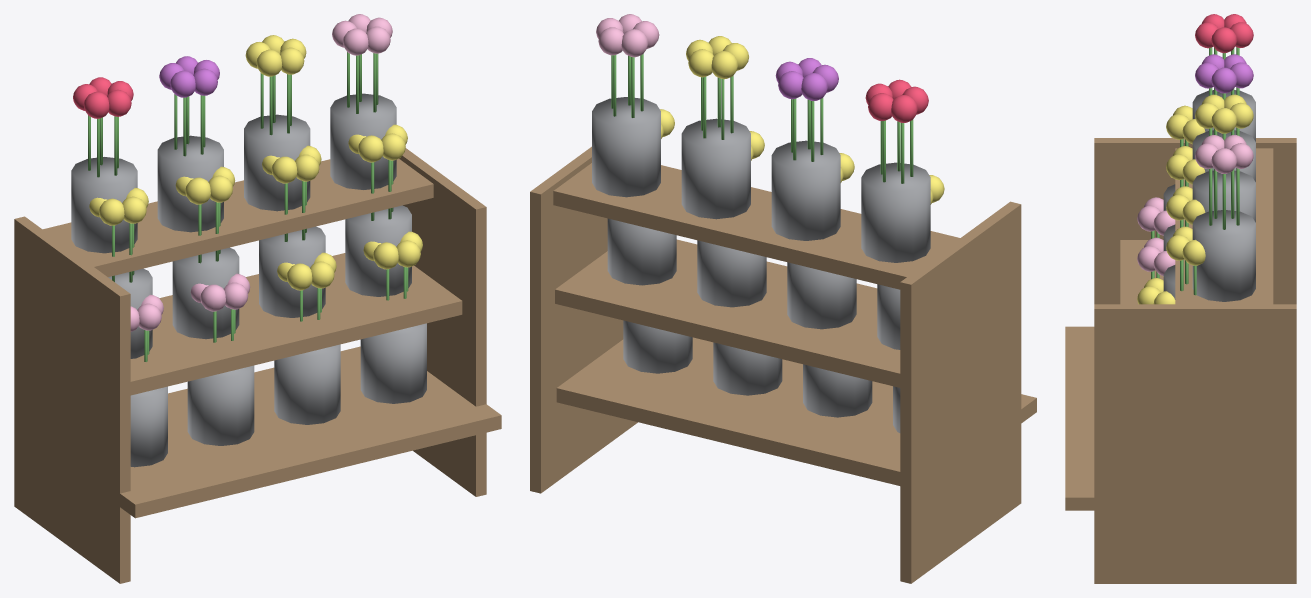
The model's file is flower_stand.glb.
3 renders of one model, left to right at view 1: azimuth 30°, elevation 25°; view 2: azimuth 150°, elevation 25°; view 3: azimuth 270°, elevation 25°, orthographic. The views are drawn at different scales.
Parts seen in each view (by area): view 1: flower_stand; view 2: flower_stand; view 3: flower_stand.
Boxes of the visible parts, left/top/right/bottom form: flower_stand: left=14, top=14, right=501, bottom=583; flower_stand: left=530, top=14, right=1036, bottom=583; flower_stand: left=1065, top=14, right=1296, bottom=583.
Size of the model in its own units: 1.4 by 1.59 by 0.8.
